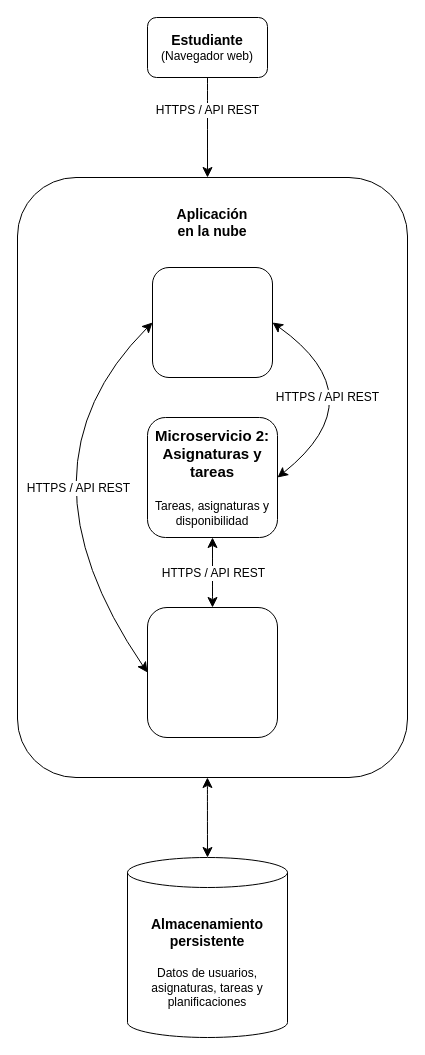
Some shapes in this 425 by 1055 pixel diagram are drawn without their labels. Here are the shapes that lost their labels. From the top down, the box of each, then its label:
(152, 266, 272, 378): Microservicio 1: Usuarios Cuentas y autenticación
(146, 606, 278, 738): Microservicio 3: Planificación Generación y modificación del plan de estudio
